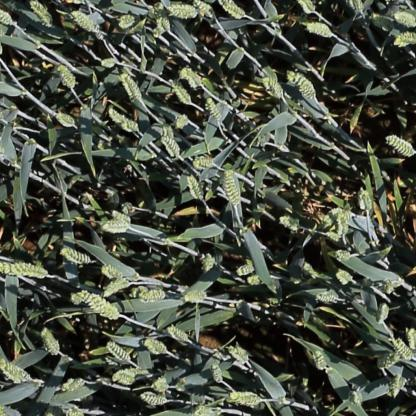whd: (78, 290, 121, 320), (286, 69, 318, 99), (0, 262, 50, 281), (384, 133, 416, 162), (70, 10, 104, 37), (0, 359, 32, 385), (119, 70, 143, 102), (107, 107, 139, 131), (168, 76, 194, 105), (226, 390, 265, 408), (40, 326, 61, 359), (164, 3, 200, 22), (28, 0, 53, 27), (224, 168, 240, 208), (154, 2, 172, 36), (186, 172, 205, 203), (158, 134, 182, 158), (106, 342, 132, 364), (178, 66, 204, 88), (60, 247, 93, 264), (391, 338, 414, 362), (262, 75, 285, 99), (320, 206, 345, 228), (182, 290, 210, 309), (137, 290, 170, 306), (100, 219, 131, 236), (221, 0, 246, 19), (102, 280, 130, 296), (193, 0, 216, 19), (378, 353, 402, 371), (278, 216, 303, 232), (143, 340, 168, 356), (228, 347, 250, 365), (139, 391, 167, 405), (370, 13, 393, 30), (389, 375, 406, 398), (204, 96, 221, 119), (57, 67, 76, 87), (307, 23, 334, 37), (109, 369, 134, 384), (393, 30, 416, 46), (167, 326, 190, 342), (357, 188, 372, 212), (404, 326, 416, 354), (202, 251, 216, 275), (109, 208, 130, 224), (329, 272, 348, 289), (338, 208, 348, 239), (394, 12, 416, 26), (101, 266, 123, 280), (129, 286, 150, 300), (315, 293, 339, 305), (56, 112, 76, 126), (378, 301, 390, 324), (67, 292, 84, 308), (64, 379, 85, 391), (191, 156, 212, 168), (174, 113, 190, 128), (118, 15, 136, 28), (332, 249, 350, 262), (152, 377, 168, 391), (301, 0, 317, 14), (313, 350, 324, 370), (324, 231, 342, 243), (351, 0, 365, 15), (213, 362, 223, 383), (236, 265, 255, 276), (195, 406, 214, 416), (161, 124, 174, 138), (352, 387, 362, 405), (245, 276, 261, 287), (101, 58, 118, 68), (0, 10, 12, 24), (384, 277, 393, 295), (66, 409, 84, 416)
